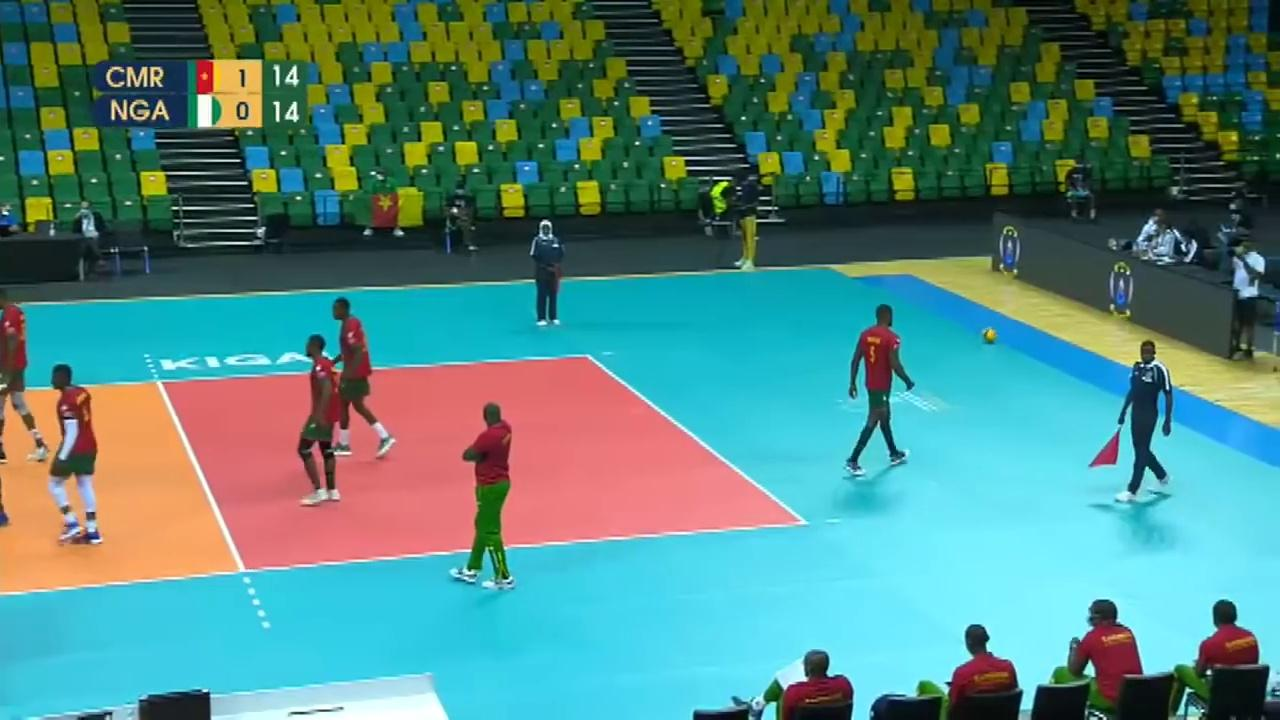player: (841, 307, 917, 475), (44, 363, 105, 542), (331, 297, 397, 459), (1, 279, 40, 467), (299, 336, 342, 503)
refree: (1095, 337, 1176, 508), (529, 219, 565, 327)
